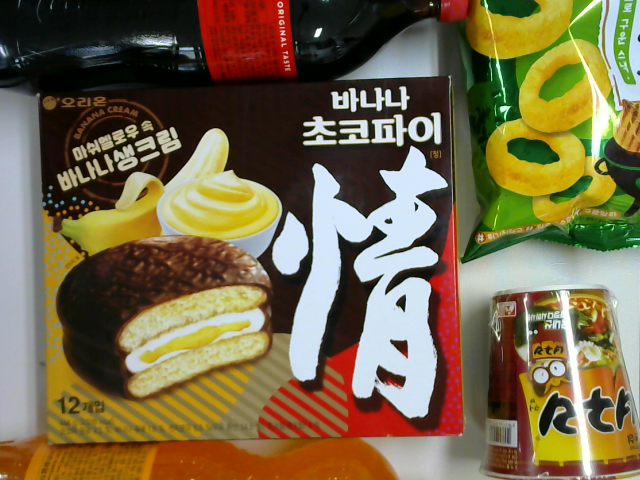Choco_Pie_Banana: (34, 76, 466, 447)
Coca_Cola_1.5L: (1, 2, 471, 99)
Grilled_Onions: (455, 1, 640, 265)
Hwanta_Orange_1.5L: (1, 437, 403, 479)
Raccoon: (476, 281, 638, 480)
